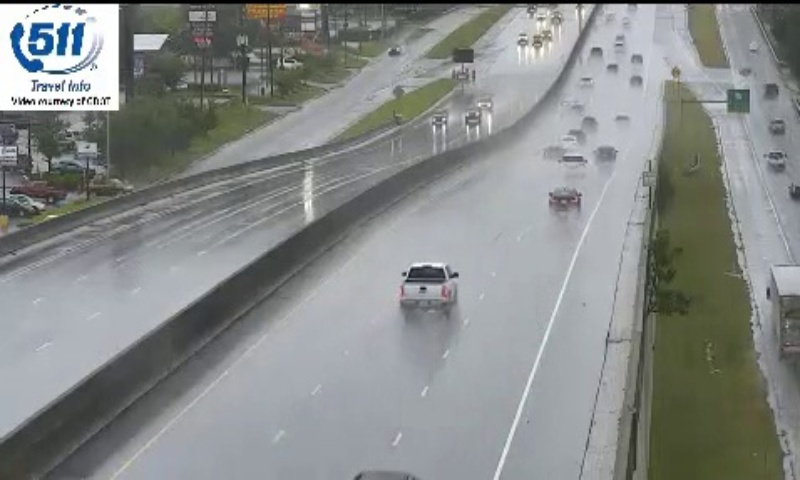car: (400, 260, 456, 312), (548, 186, 579, 213)
